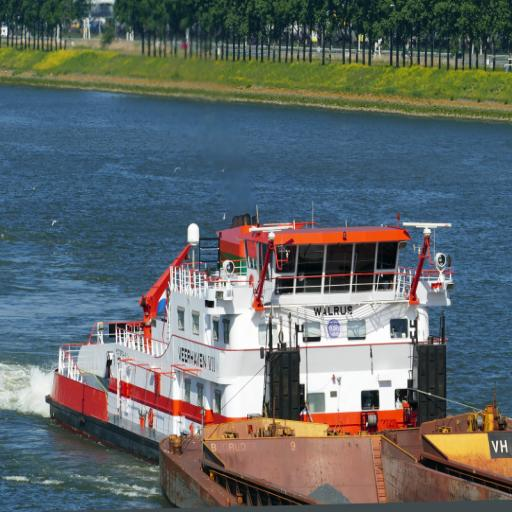tugboat: (43, 199, 452, 497)
